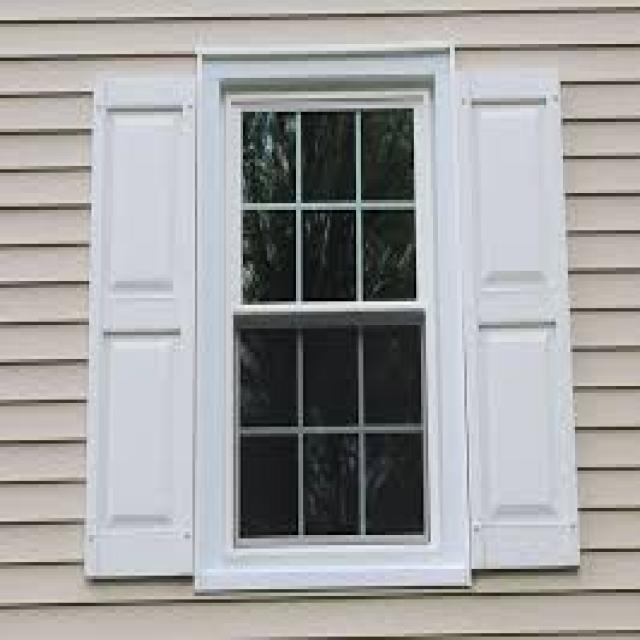Window: (230, 99, 430, 546)
